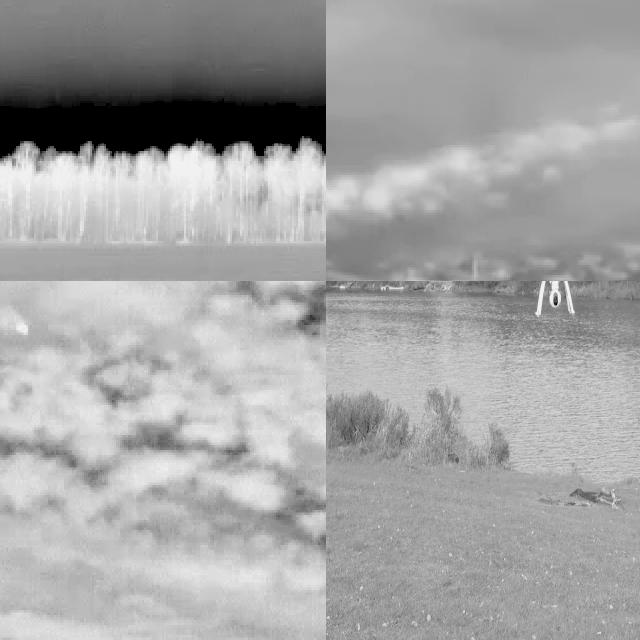0: (6, 315, 48, 350)
drone: (508, 281, 595, 313)
